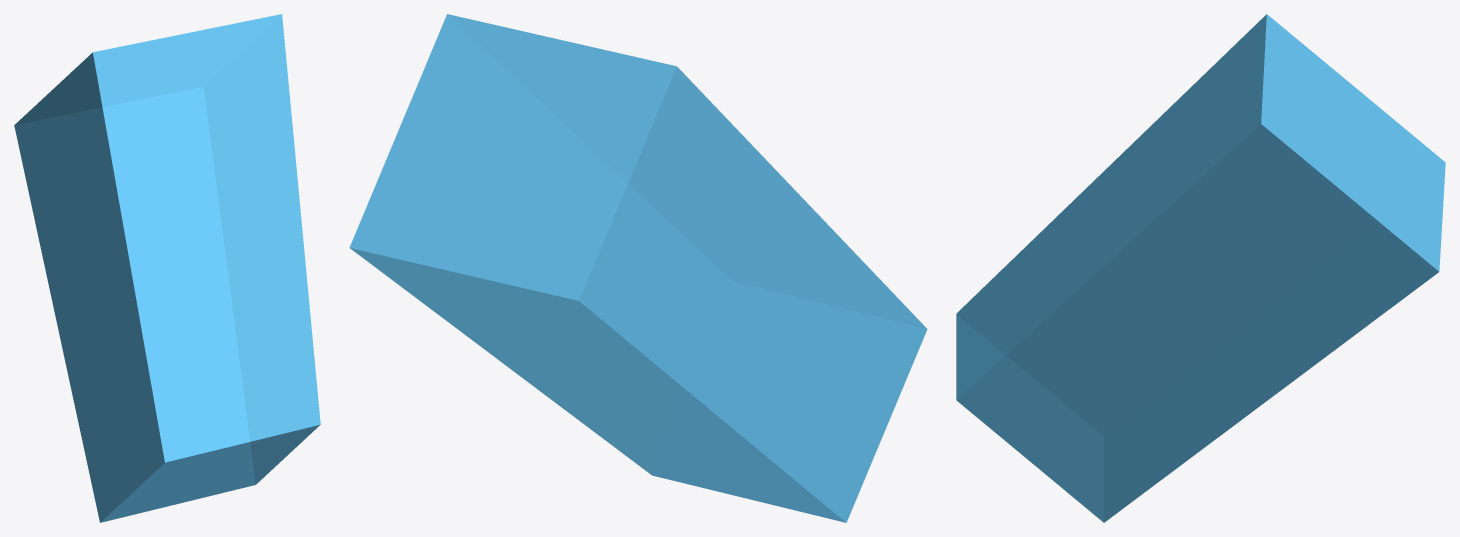
File: Event_420094457_HBrechit_20.fbx
The picture shows the model from 3 angles, left to right: view 1: azimuth 30°, elevation 25°; view 2: azimuth 150°, elevation 25°; view 3: azimuth 270°, elevation 25°; orthographic projection. The views are drawn at different scales.
Visible parts, largest first — view 1: Model; view 2: Model; view 3: Model.
Boxes of the visible parts, x1=… form: Model: x1=14, y1=14, x2=320, y2=522; Model: x1=349, y1=14, x2=927, y2=522; Model: x1=956, y1=14, x2=1445, y2=522.
Size of the model in its own units: 0.6611 by 1.01 by 0.9808.
